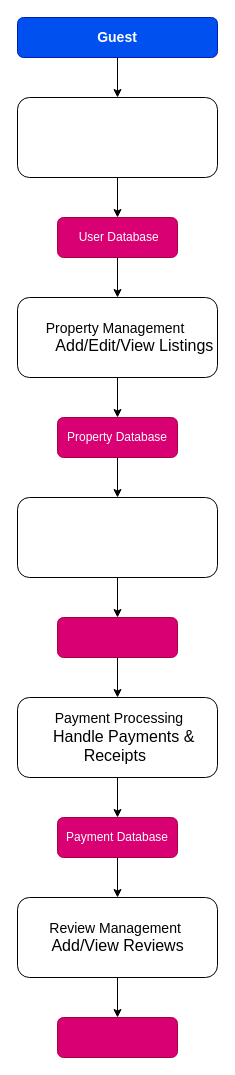
Some shapes in this 235 by 1075 pixel diagram are drawn without their labels. The shapes that lost their labels are listed below. From the top down, each one's centre as x and y in pixels, then its label:
the point at 117,137: User Management Register/ Login / Profile
the point at 117,537: Booking Management Make/Cancel/View Bookings
the point at 117,637: Booking Database
the point at 117,1037: Review
